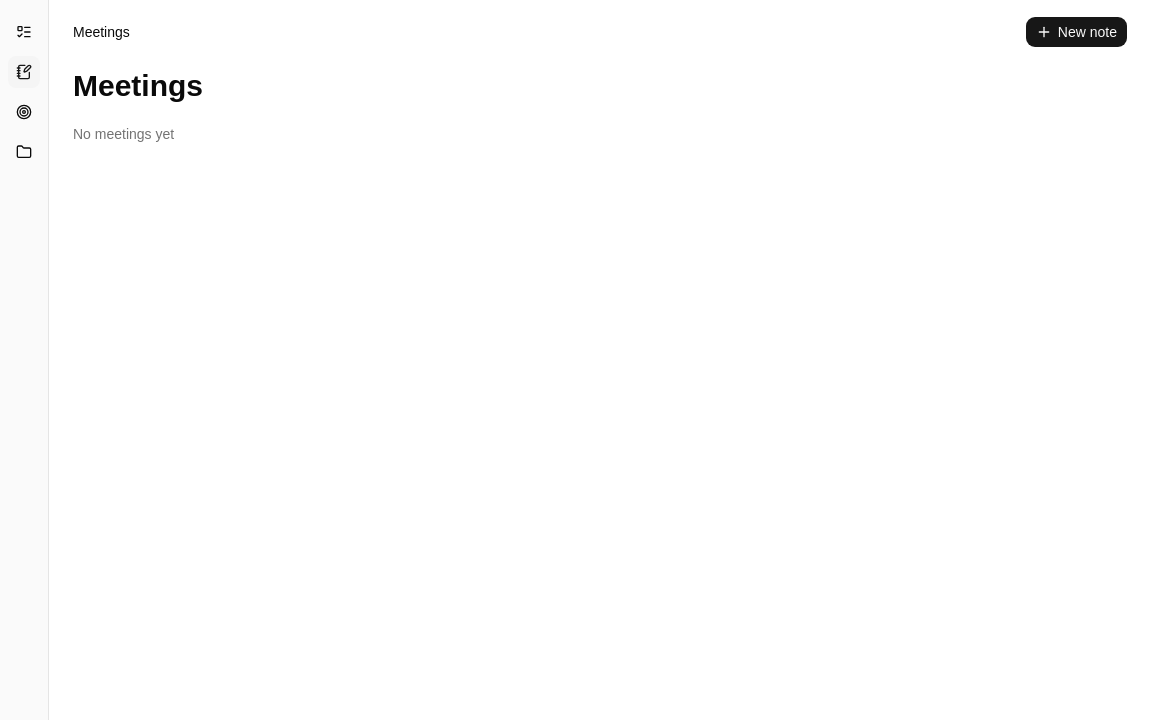
Test case: Projects page › lists the projects that are not deleted by name without regard to case
Click the 4th link named "Projects".
click(24, 152)  # box [8, 136, 40, 168]
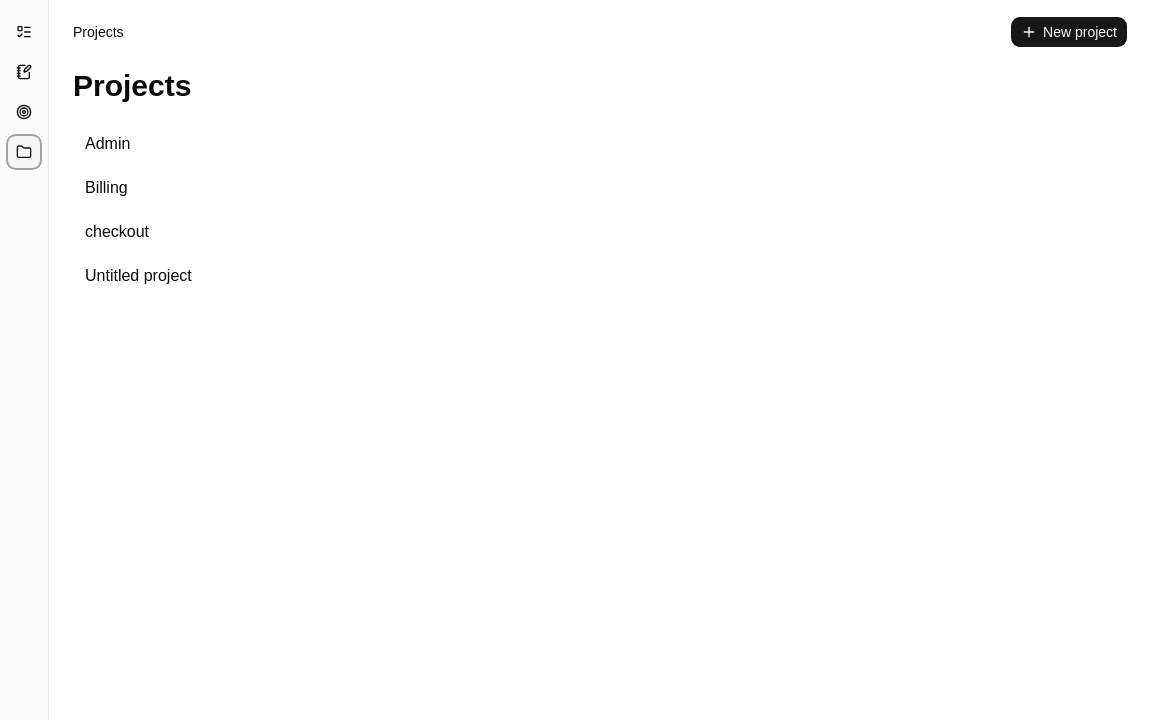
expect the heading "Projects" is shown: met, box [73, 69, 191, 102]
